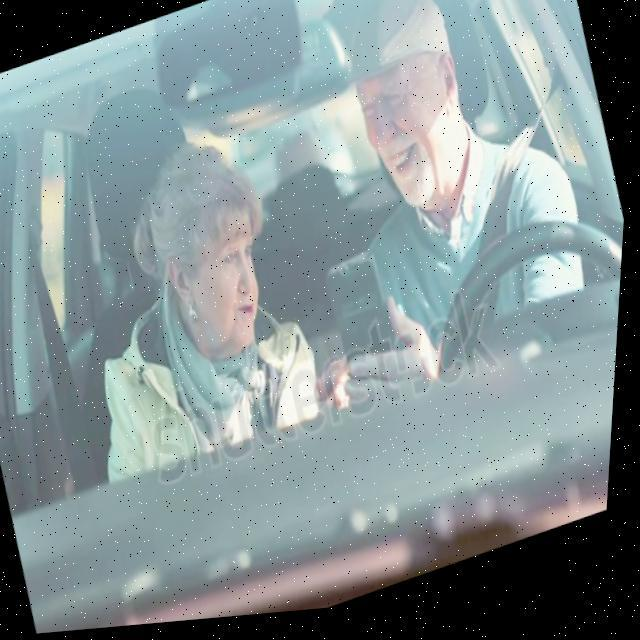PhoneCall: (315, 250, 416, 406)
